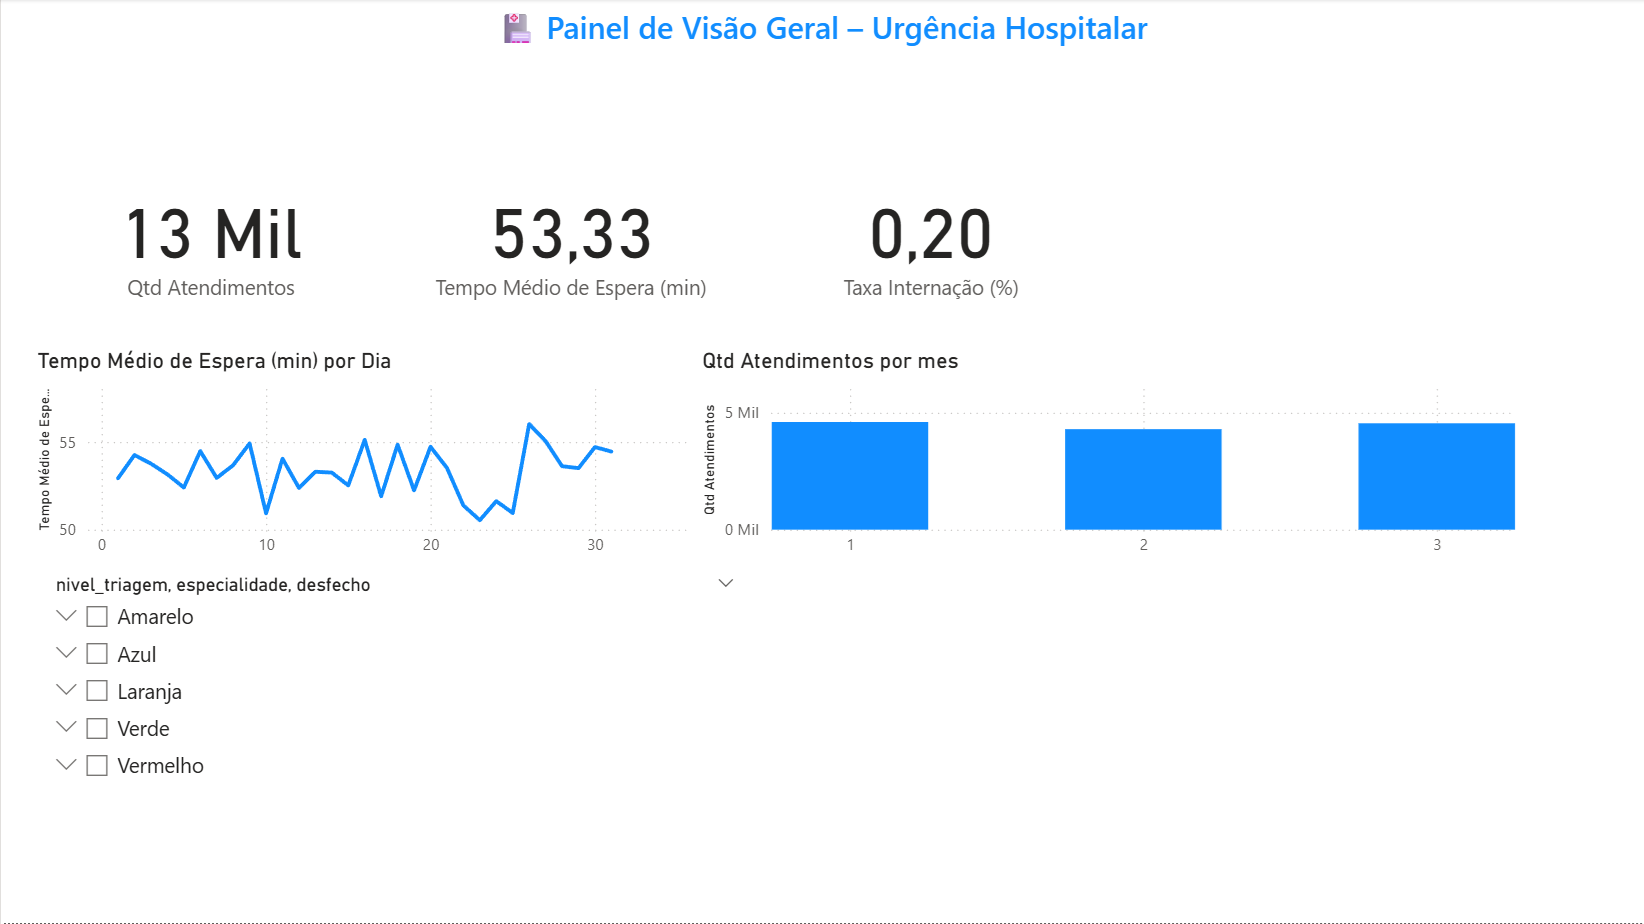

The dashboard page shown, as its layout file describes it:
{"tool":"powerbi","page":{"name":"Visão Geral","canvas":[1280,720],"ordinal":0},"visuals":[{"type":"card","fields":{"Values":["atendimentos_urgencia_simulado.Qtd Atendimentos"]},"box":[23.1,101.4,280.5,169.3],"z":0},{"type":"card","fields":{"Values":["atendimentos_urgencia_simulado.Tempo Médio de Espera (min)"]},"box":[303.6,101.4,280.5,169.3],"z":1000},{"type":"card","fields":{"Values":["atendimentos_urgencia_simulado.Taxa Internação (%)"]},"box":[584.1,101.4,280.5,169.3],"z":2000},{"type":"lineChart","fields":{"Category":["atendimentos_urgencia_simulado.data.Variation.Hierarquia de datas.Dia"],"Y":["atendimentos_urgencia_simulado.Tempo Médio de Espera (min)"]},"box":[23.1,270.8,518.4,172.3],"z":3000},{"type":"columnChart","fields":{"Category":["atendimentos_urgencia_simulado.mes"],"Y":["atendimentos_urgencia_simulado.Qtd Atendimentos"]},"box":[541.5,270.8,643,172.3],"z":4000},{"type":"slicer","fields":{"Values":["atendimentos_urgencia_simulado.nivel_triagem","atendimentos_urgencia_simulado.especialidade","atendimentos_urgencia_simulado.desfecho"]},"box":[29.8,443.1,554.2,182],"z":5000},{"type":"textbox","box":[380.4,0,518.4,101.4],"z":6000}]}

Visuals, with their boxes in screenshot pixels (x1, y1, x2, y2), scaled from the page's 1280x720 canvas onto the 1644x924 screenshot:
card - atendimentos_urgencia_simulado.Qtd Atendimentos: x1=30 y1=130 x2=390 y2=347
card - atendimentos_urgencia_simulado.Tempo Médio de Espera (min): x1=390 y1=130 x2=750 y2=347
card - atendimentos_urgencia_simulado.Taxa Internação (%): x1=750 y1=130 x2=1110 y2=347
lineChart - atendimentos_urgencia_simulado.data.Variation.Hierarquia de datas.Dia x atendimentos_urgencia_simulado.Tempo Médio de Espera (min): x1=30 y1=348 x2=695 y2=569
columnChart - atendimentos_urgencia_simulado.mes x atendimentos_urgencia_simulado.Qtd Atendimentos: x1=695 y1=348 x2=1521 y2=569
slicer - atendimentos_urgencia_simulado.nivel_triagem x atendimentos_urgencia_simulado.especialidade: x1=38 y1=569 x2=750 y2=802
textbox: x1=489 y1=0 x2=1154 y2=130
